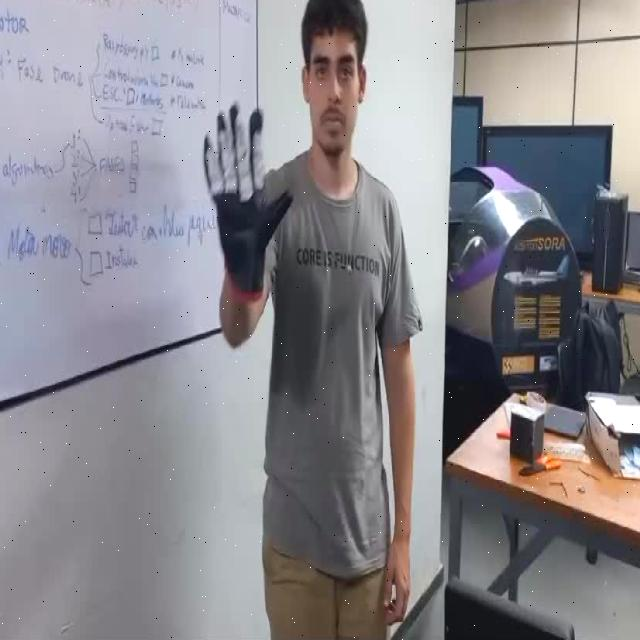Gloves: (200, 96, 294, 297)
